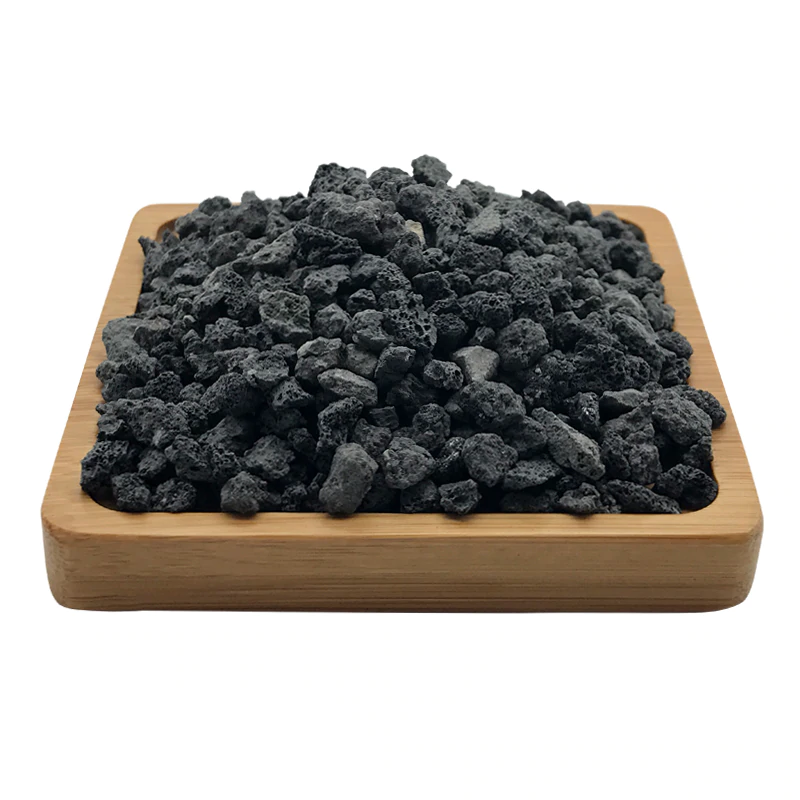volcanic_rock: (161, 231, 443, 415), (298, 225, 559, 423), (347, 321, 578, 507), (457, 223, 631, 415), (478, 325, 661, 501), (151, 323, 308, 495)
